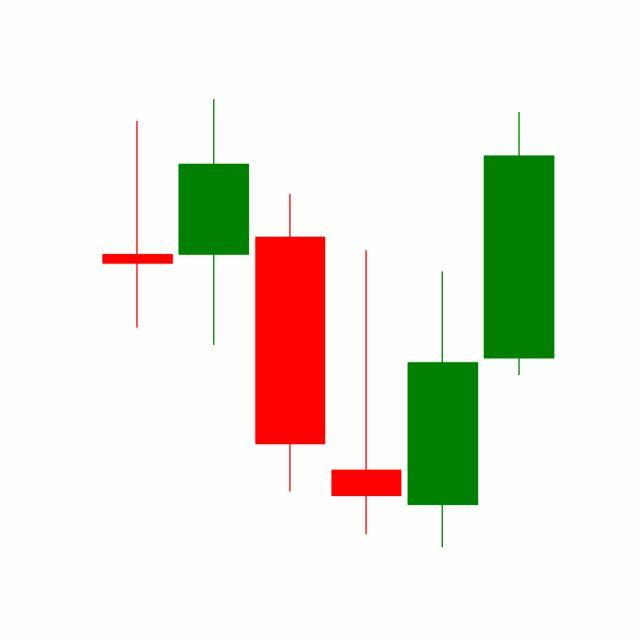Morning Star: (252, 189, 482, 548)
